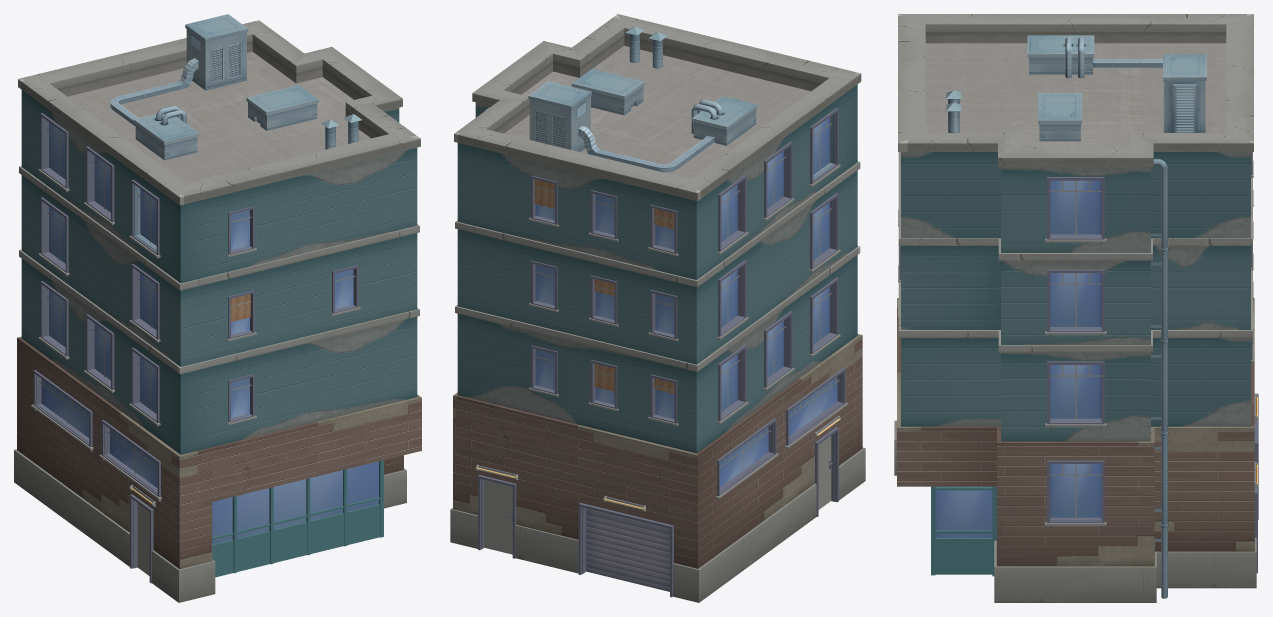
The model's file is Building_05_1_LOD1.fbx.
The picture shows the model from 3 angles, left to right: view 1: azimuth 30°, elevation 25°; view 2: azimuth 150°, elevation 25°; view 3: azimuth 270°, elevation 25°; orthographic projection. The views are drawn at different scales.
Parts seen in each view (by area): view 1: polySurface4170; view 2: polySurface4170; view 3: polySurface4170.
Part boxes in pixels (x1,y1,x2,y2): polySurface4170: (14,14,421,602); polySurface4170: (450,14,865,602); polySurface4170: (894,14,1258,602).
Size of the model in its own units: 921 by 1409 by 956.
